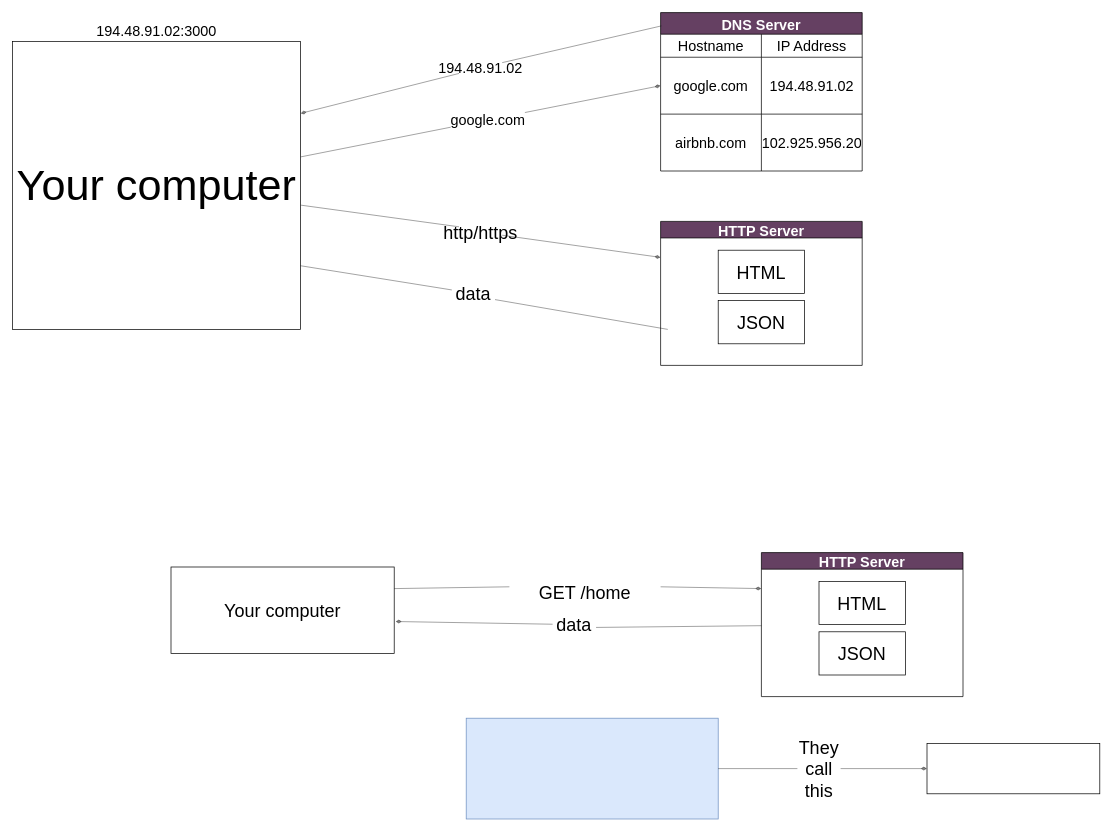
Some shapes in this 1112 by 832 pixel diagram are drawn without their labels. The shapes that lost their labels are listed below. From the top down, each one's centre as x and y in pixels, then its label:
At pixel 591 768: "How HTTP Server response is based on the API wrote in the server".
At pixel 1013 768: "HTTP Requests".
